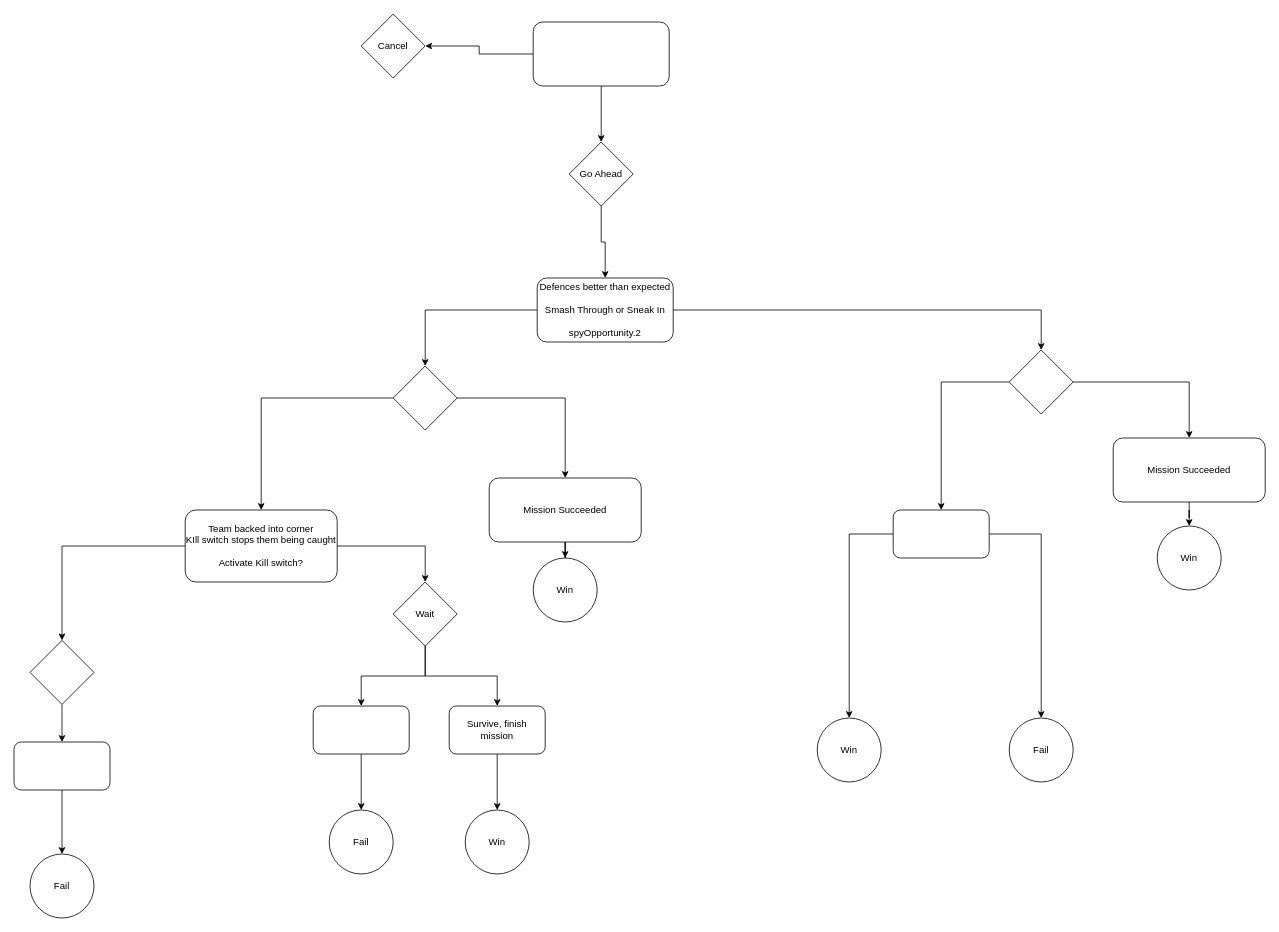
This 1279x932 diagram has some shape labels left out. Here are the shapes that lost their labels. From the top down, the centre of each, then its label:
point (600, 53): Defecting Scientist
point (424, 397): Smash In
point (1040, 381): Sneak in
point (940, 533): Laser grid in vent too late to turn back, activated while in there
point (61, 672): Kill Switch
point (360, 729): Team captured
point (61, 765): Team killed
